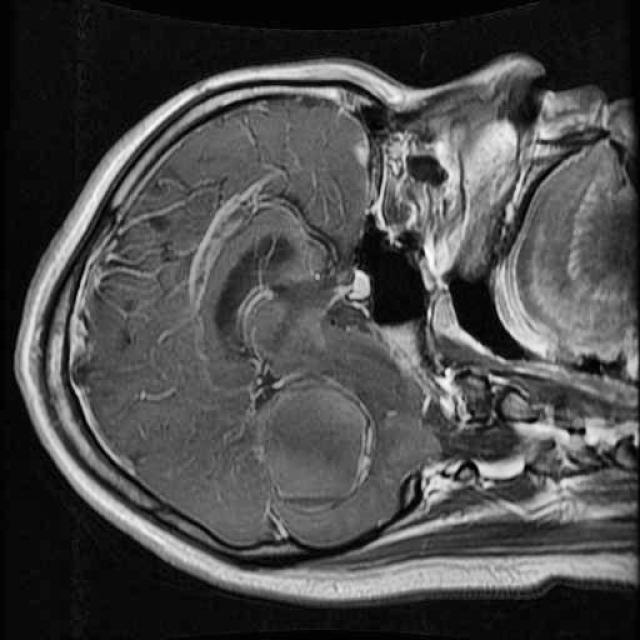Non-Tumor: (245, 358, 384, 524)
